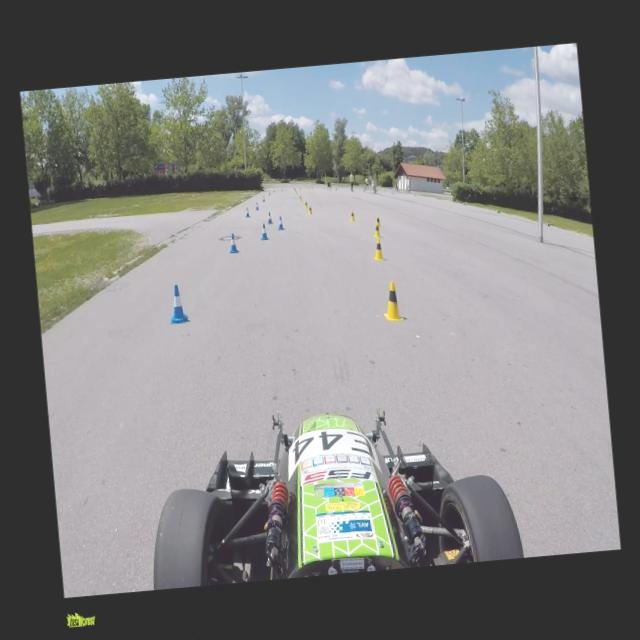blue_cone: (167, 284, 187, 324), (226, 233, 238, 254), (259, 222, 268, 240), (276, 215, 284, 231), (266, 211, 272, 224), (244, 206, 250, 218), (254, 202, 259, 210), (260, 195, 264, 202), (267, 189, 270, 195), (272, 188, 274, 192), (280, 188, 282, 190)
yellow_cone: (380, 280, 402, 324), (372, 238, 384, 260), (372, 214, 382, 231), (373, 220, 381, 238), (348, 210, 356, 222), (308, 204, 312, 216), (303, 200, 308, 209), (294, 188, 297, 194), (298, 194, 300, 201)
